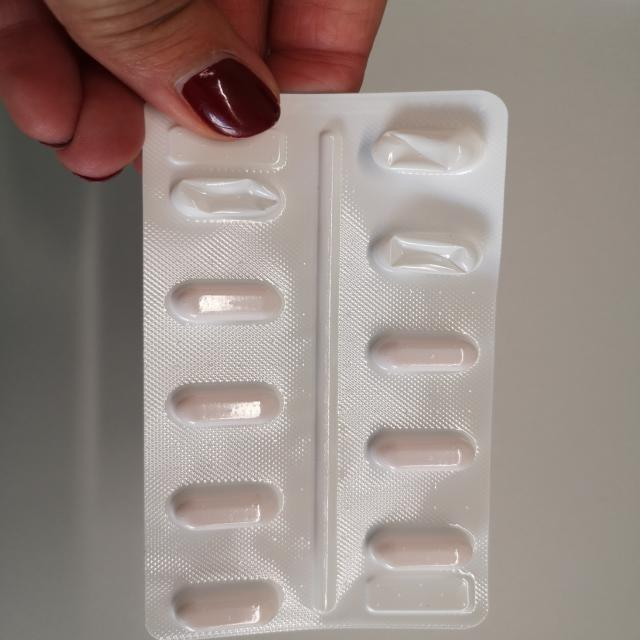Empty: (360, 225, 489, 282), (365, 122, 489, 180), (165, 172, 289, 225)
Pill: (158, 273, 288, 329), (162, 477, 286, 535), (160, 377, 289, 432), (164, 578, 286, 634), (360, 330, 488, 379), (358, 519, 478, 570), (361, 425, 482, 475)
